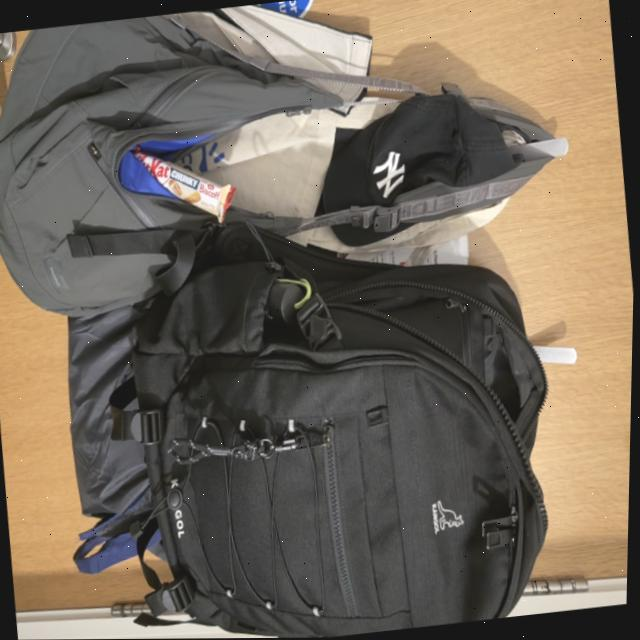chocolate: (128, 132, 243, 237)
